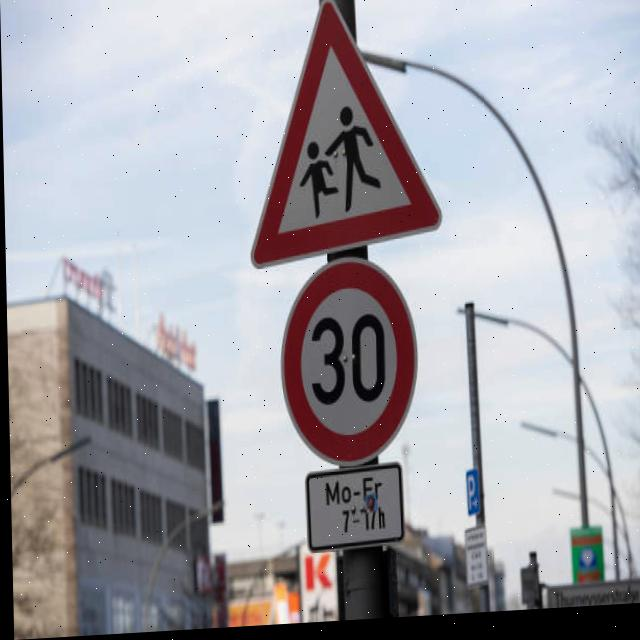Speed limit 30: (276, 256, 419, 473)
